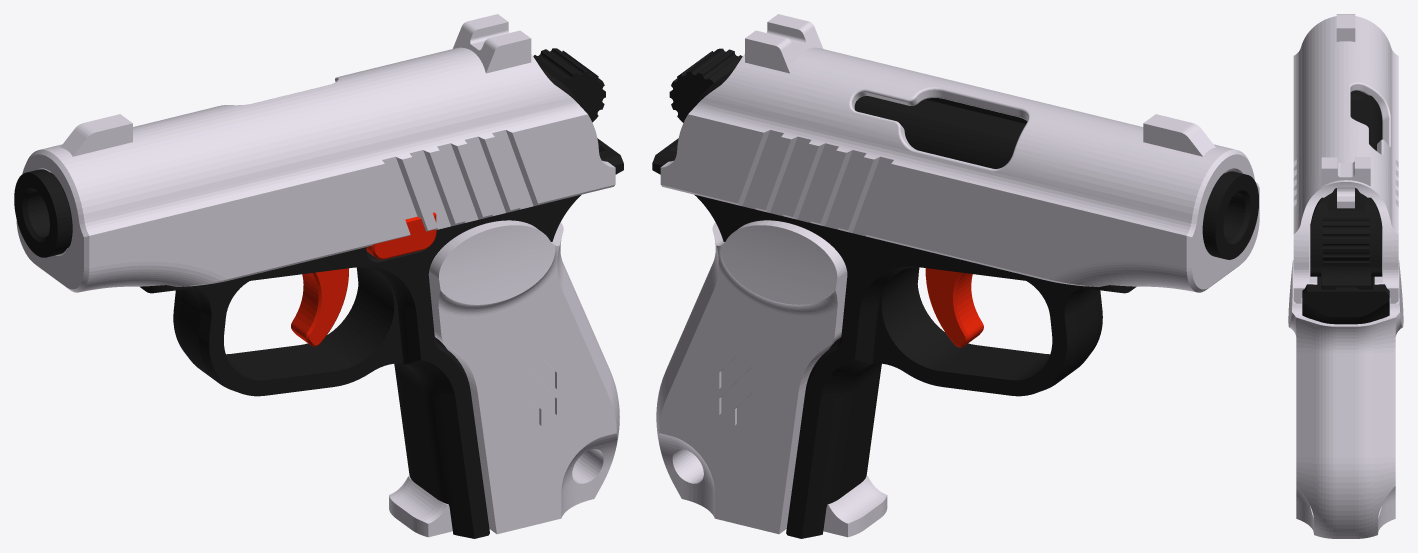
3 renders of one model, left to right at view 1: azimuth 30°, elevation 25°; view 2: azimuth 150°, elevation 25°; view 3: azimuth 270°, elevation 25°, orthographic. The views are drawn at different scales.
Parts seen in each view (by area): view 1: pm.002, pm.001, pm, pm.003, pm.004, pm.005; view 2: pm.002, pm.001, pm, pm.005, pm.004, pm.003; view 3: pm.001, pm.002, pm.005, pm.
Part boxes in pixels (left/top/right/bottom): pm.002: left=16, top=14, right=615, bottom=292; pm.001: left=389, top=220, right=619, bottom=537; pm: left=140, top=138, right=623, bottom=538; pm.003: left=291, top=212, right=436, bottom=346; pm.004: left=14, top=169, right=72, bottom=257; pm.005: left=533, top=48, right=605, bottom=122; pm.002: left=660, top=14, right=1259, bottom=292; pm.001: left=656, top=220, right=887, bottom=537; pm: left=652, top=138, right=1136, bottom=538; pm.005: left=669, top=48, right=1027, bottom=168; pm.004: left=1202, top=171, right=1258, bottom=259; pm.003: left=925, top=268, right=983, bottom=347; pm.001: left=1288, top=260, right=1403, bottom=538; pm.002: left=1293, top=14, right=1398, bottom=303; pm.005: left=1310, top=94, right=1382, bottom=289; pm: left=1302, top=276, right=1389, bottom=324.
Bounding box in the file's own units: 82.8 × 66.15 × 19.76.
